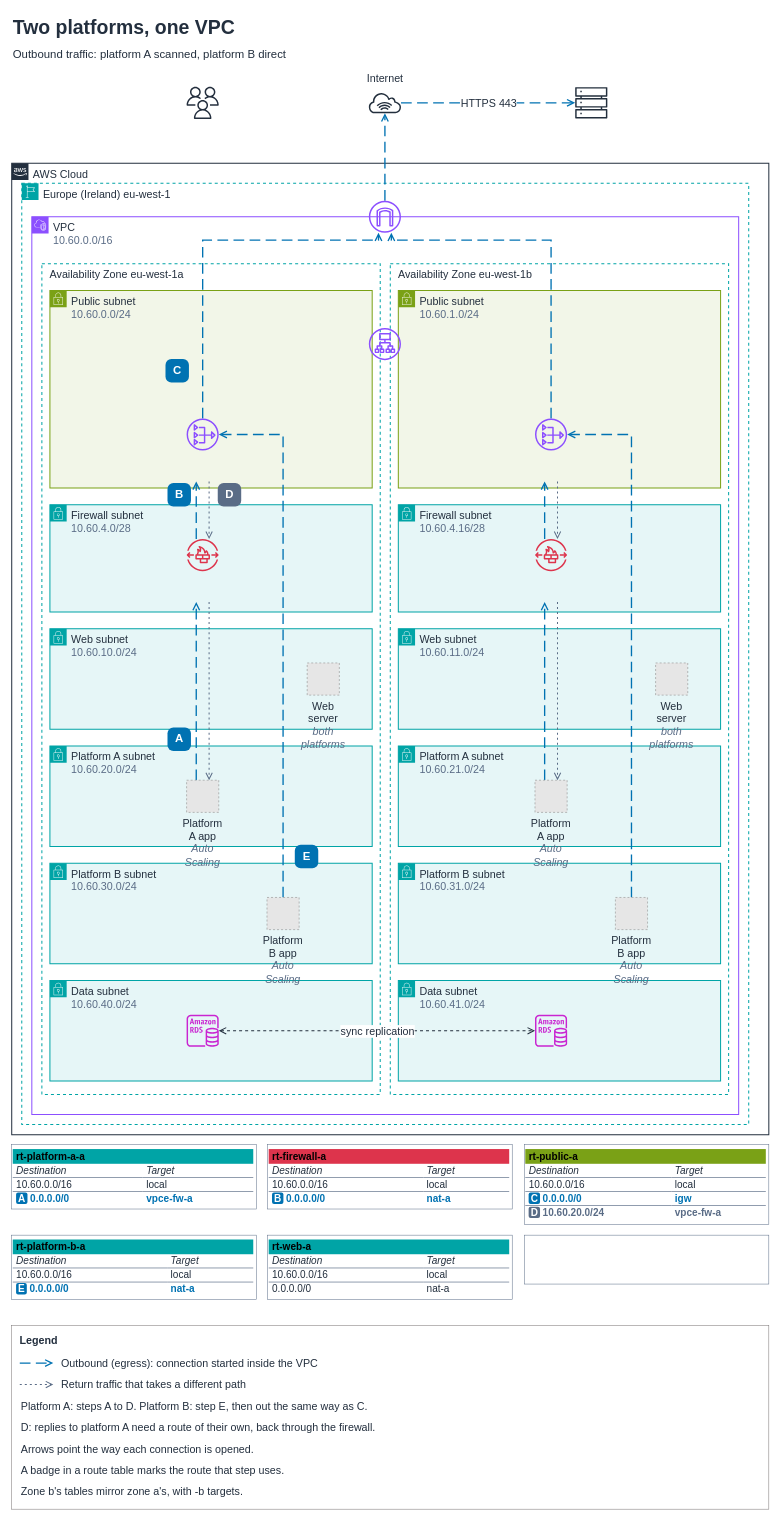
Some shapes in this 781 by 1521 pixel diagram are drawn without their labels. Grey dashed boxes stand in for pictures. The centre of each missing label's shape, as x and y in pixels:
"Application Load Balancer + AWS WAF" belongs at [384,344].
"Customers both platforms" belongs at [202,102].
"Database RDS primary" belongs at [202,1030].
"Database RDS standby" belongs at [551,1030].
"External services APIs, updates" belongs at [591,102].
"Firewall endpoint vpce-fw-a" belongs at [202,555].
"Firewall endpoint vpce-fw-b" belongs at [551,555].
"Internet gateway igw" belongs at [384,216].
"NAT gateway nat-a" belongs at [202,434].
"NAT gateway nat-b" belongs at [551,434].
"rt-data (no route out) Destination Target 10.60.0.0/16 local" belongs at [646,1259].
